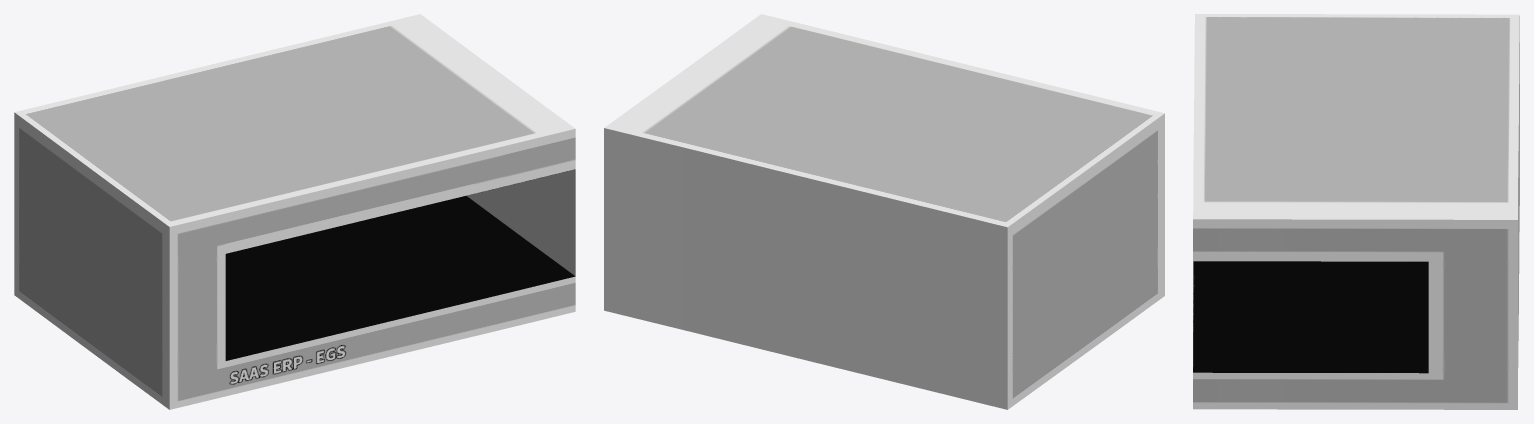
File: HouseBox.glb
The picture shows the model from 3 angles, left to right: view 1: azimuth 30°, elevation 25°; view 2: azimuth 150°, elevation 25°; view 3: azimuth 270°, elevation 25°; orthographic projection. The views are drawn at different scales.
Visible parts, largest first — view 1: Cube.002; view 2: Cube.002; view 3: Cube.002.
Boxes of the visible parts, x1,y1,x2,y2 form: Cube.002: [14, 14, 575, 409]; Cube.002: [604, 14, 1164, 409]; Cube.002: [1193, 14, 1519, 409].
Bounding box in the file's own units: 22.5 × 9.68 × 15.08.
Materials: 3 (1 with a texture image).
